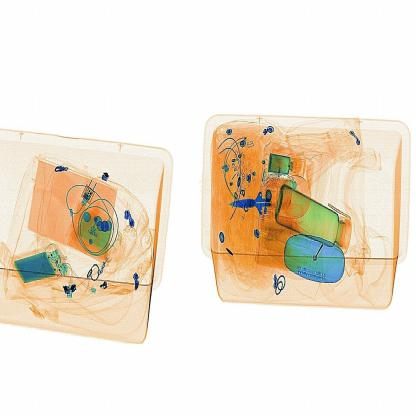gun: (226, 182, 298, 224)
